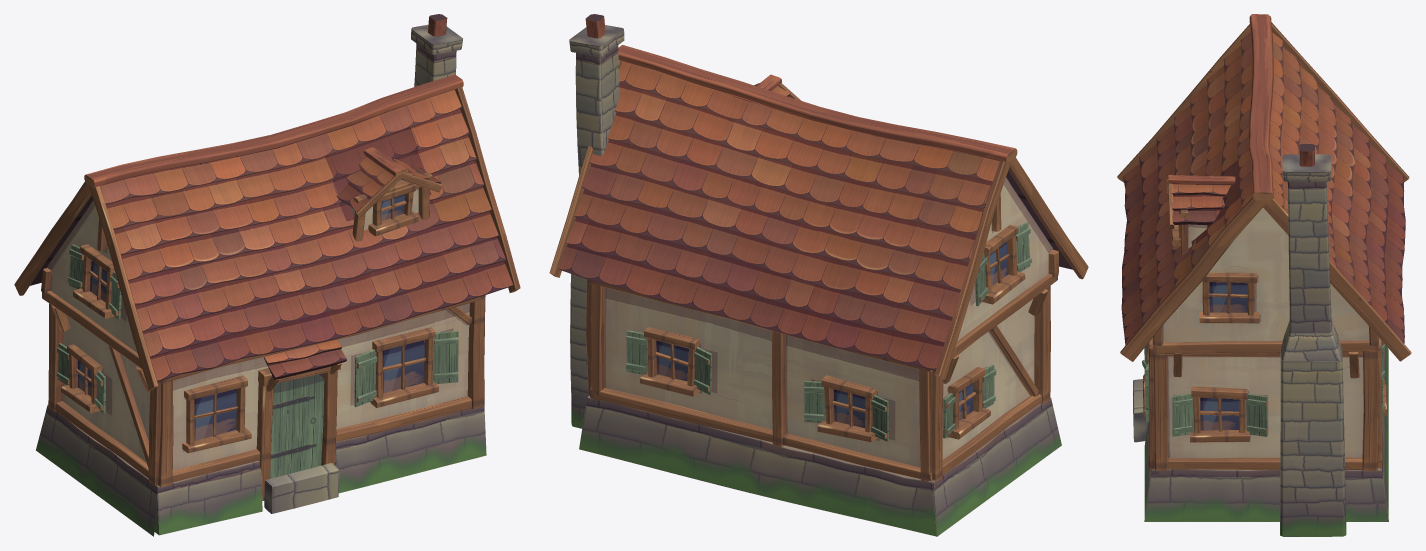
The model's file is Cottage.glb.
3 views of the same model, side by side, from view 1: azimuth 30°, elevation 25°; view 2: azimuth 150°, elevation 25°; view 3: azimuth 270°, elevation 25° (orthographic). The views are drawn at different scales.
Parts seen in each view (by area): view 1: Cottage_Roof, Cottage_Walls, Cottage_Frame, Cottage_Joinery; view 2: Cottage_Roof, Cottage_Walls, Cottage_Frame, Cottage_Joinery; view 3: Cottage_Walls, Cottage_Roof, Cottage_Frame, Cottage_Joinery.
Boxes of the visible parts, x1,y1,x2,y2 form: Cottage_Roof: (30, 90, 512, 381); Cottage_Walls: (36, 24, 486, 536); Cottage_Frame: (14, 74, 520, 500); Cottage_Joinery: (41, 14, 472, 478); Cottage_Roof: (558, 61, 1072, 370); Cottage_Walls: (569, 25, 1061, 536); Cottage_Frame: (549, 45, 1088, 481); Cottage_Joinery: (585, 14, 1058, 442); Cottage_Walls: (1133, 154, 1388, 536); Cottage_Roof: (1121, 32, 1405, 345); Cottage_Frame: (1117, 14, 1411, 470); Cottage_Joinery: (1142, 144, 1387, 442).
Size of the model in its own units: 26.1 by 24.02 by 16.47.
4 materials, 4 textured.
